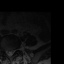CCS_normal: (8, 48, 11, 58)
LFS_stenosis: (14, 47, 18, 53)
LLS_normal: (11, 48, 14, 55)
RFS_stenosis: (3, 47, 6, 53)
RLS_normal: (6, 48, 8, 56)
